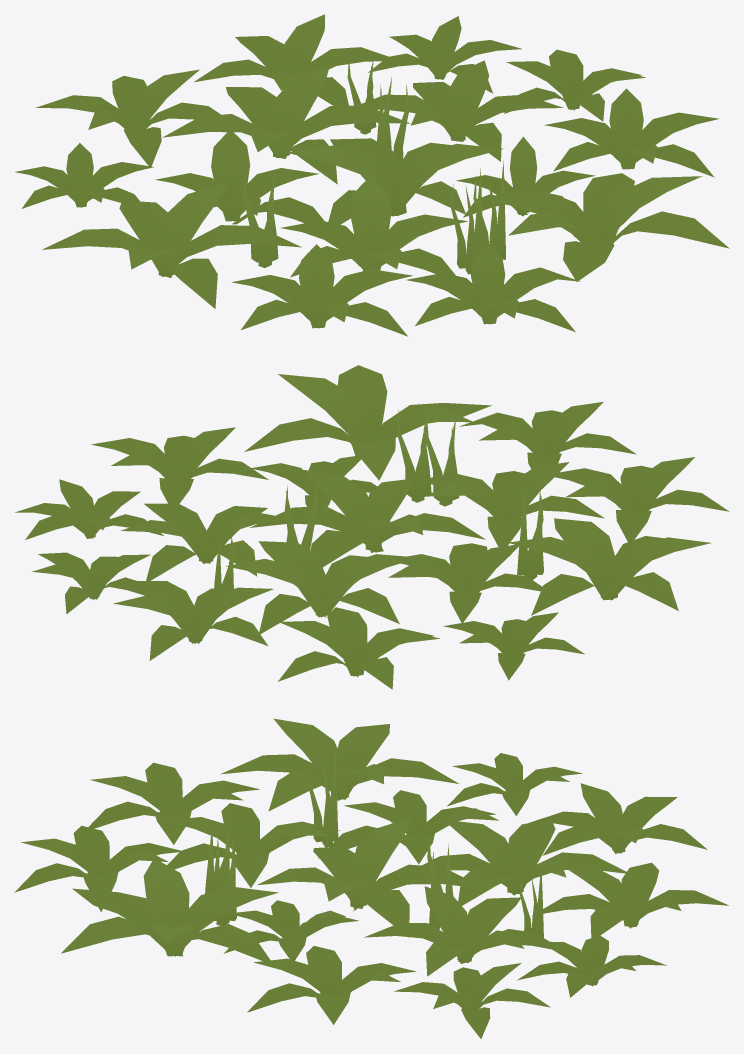
The model's file is Plant_01.glb.
3 renders of one model, top to bottom at view 1: azimuth 30°, elevation 25°; view 2: azimuth 150°, elevation 25°; view 3: azimuth 270°, elevation 25°, orthographic. The views are drawn at different scales.
Visible parts, largest first — view 1: Plant_01_LOD0; view 2: Plant_01_LOD0; view 3: Plant_01_LOD0.
Part boxes in pixels (bbox=[...]): Plant_01_LOD0: bbox=[15, 14, 729, 336]; Plant_01_LOD0: bbox=[15, 365, 729, 689]; Plant_01_LOD0: bbox=[14, 718, 728, 1038].
Size of what is drawn, in the model's own units: 0.9287 by 0.1342 by 0.9451.
Materials: 1 (1 with a texture image).
